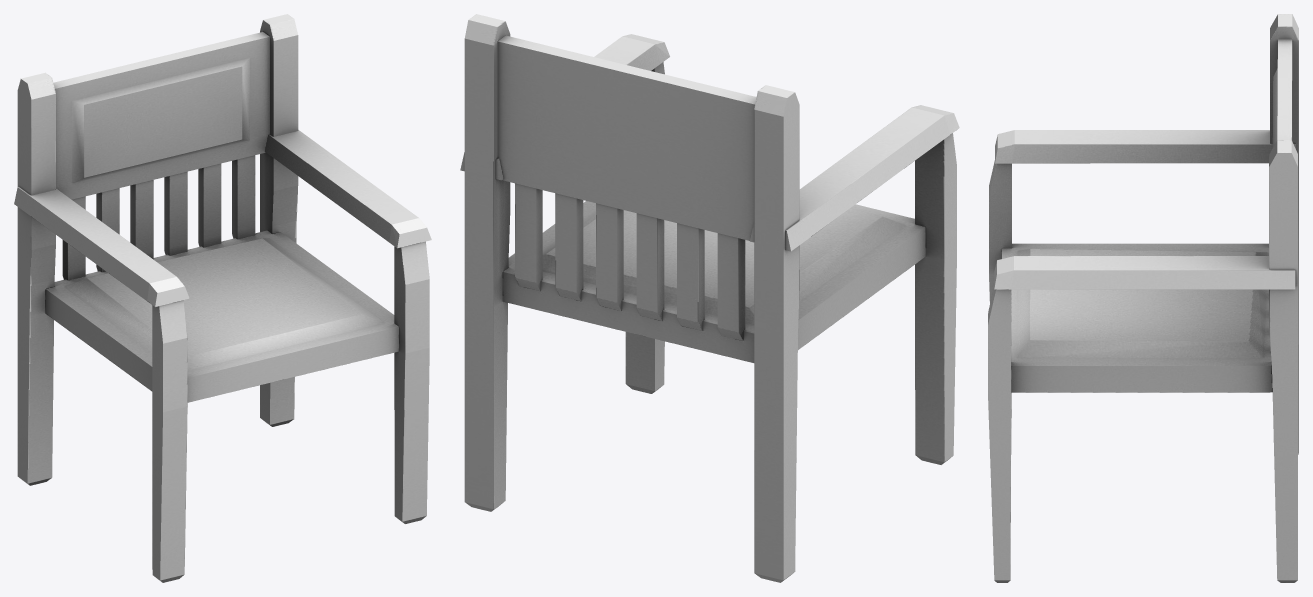
The model's file is chair_6.obj.
3 renders of one model, left to right at view 1: azimuth 30°, elevation 25°; view 2: azimuth 150°, elevation 25°; view 3: azimuth 270°, elevation 25°, orthographic. The views are drawn at different scales.
Visible parts, largest first — view 1: chair_6; view 2: chair_6; view 3: chair_6.
Boxes of the visible parts, box(x1,y1,x2,y2) form: chair_6: box(14, 14, 431, 582); chair_6: box(460, 14, 959, 582); chair_6: box(988, 14, 1298, 582).
Bounding box in the file's own units: 1.25 × 1.74 × 1.14.
